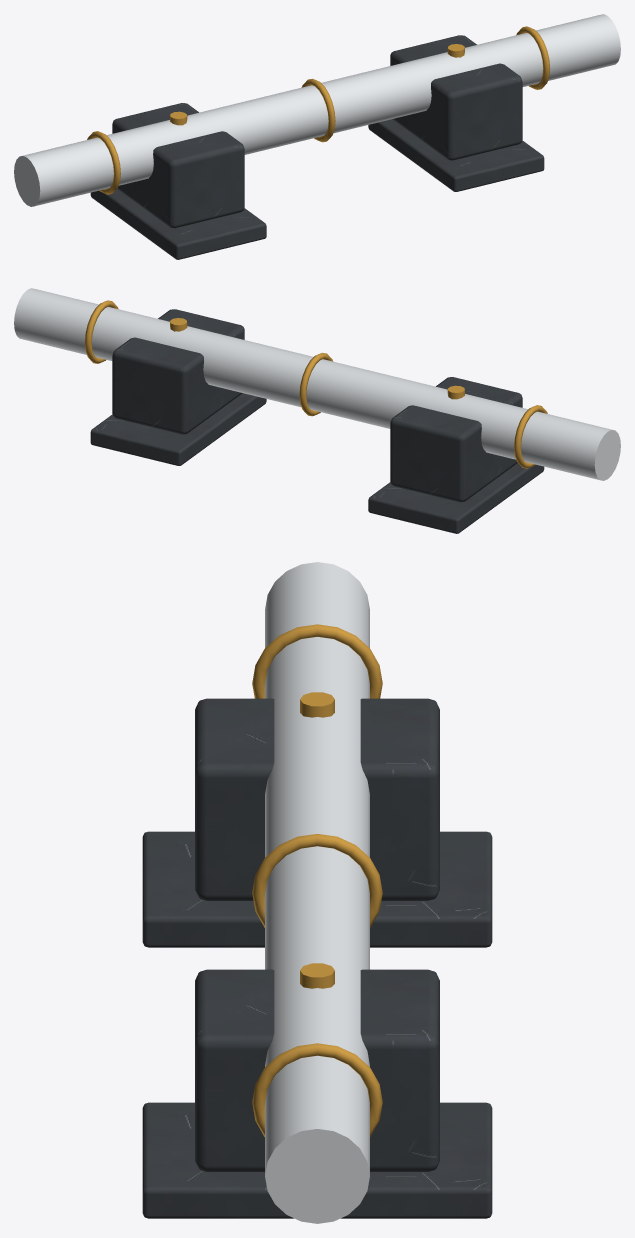
Rendered from ShaftLine.glb.
3 views of the same model, one above another, from view 1: azimuth 30°, elevation 25°; view 2: azimuth 150°, elevation 25°; view 3: azimuth 270°, elevation 25° (orthographic). The views are drawn at different scales.
Visible parts, largest first — view 1: ShaftLine_Body, ShaftLine_Shaft; view 2: ShaftLine_Body, ShaftLine_Shaft; view 3: ShaftLine_Body, ShaftLine_Shaft.
Part boxes in pixels (x1,y1,x2,y2): ShaftLine_Body: (90,35,544,259); ShaftLine_Shaft: (14,14,620,206); ShaftLine_Body: (90,309,544,533); ShaftLine_Shaft: (14,288,620,480); ShaftLine_Body: (142,692,492,1218); ShaftLine_Shaft: (252,562,382,1223).
Size of the model in its own units: 2.3 by 0.392 by 0.6.
3 materials, 1 textured.
